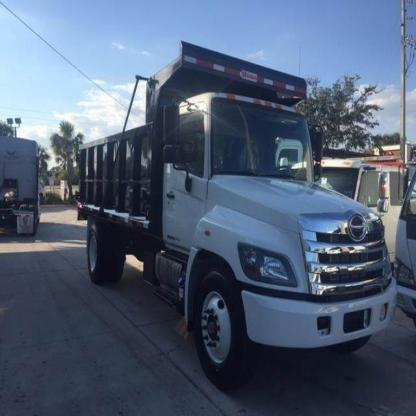dump_truck: (62, 40, 407, 390)
